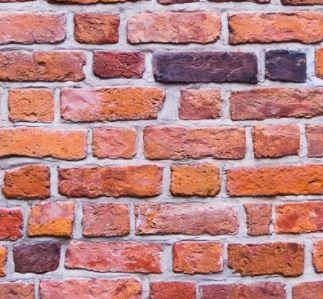brick: (59, 85, 168, 122), (127, 8, 224, 45), (56, 164, 164, 197), (144, 124, 246, 158), (151, 50, 258, 82), (132, 204, 239, 236), (64, 241, 163, 275), (227, 8, 323, 43), (225, 164, 323, 197), (1, 48, 88, 84), (230, 88, 323, 120), (227, 241, 305, 277), (1, 127, 88, 158), (36, 276, 143, 299), (1, 10, 66, 43), (170, 239, 225, 275), (176, 84, 225, 121), (170, 161, 221, 196), (251, 124, 302, 157), (7, 88, 55, 123), (265, 48, 310, 85), (91, 49, 146, 79), (197, 281, 286, 299), (73, 10, 123, 42), (27, 203, 74, 237), (80, 205, 131, 236), (4, 164, 53, 196), (12, 244, 62, 273), (95, 125, 137, 158), (274, 205, 323, 233), (242, 202, 273, 234), (149, 280, 200, 299), (1, 208, 24, 237), (1, 279, 35, 298), (305, 124, 323, 157), (290, 282, 323, 295)
